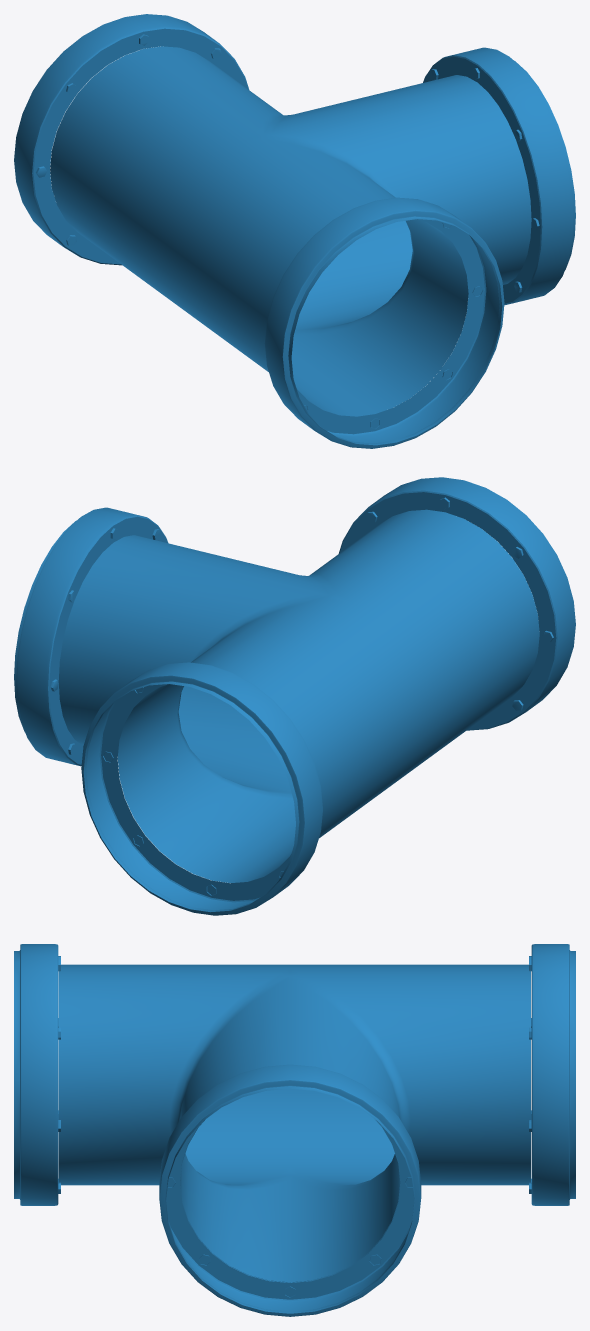
The model's file is Sub_TPipe_Pix_LOD1.fbx.
3 renders of one model, top to bottom at view 1: azimuth 30°, elevation 25°; view 2: azimuth 150°, elevation 25°; view 3: azimuth 270°, elevation 25°, orthographic. The views are drawn at different scales.
Parts seen in each view (by area): view 1: Sub_TPipe_Pix_LOD1; view 2: Sub_TPipe_Pix_LOD1; view 3: Sub_TPipe_Pix_LOD1.
Boxes of the visible parts, x1=… form: Sub_TPipe_Pix_LOD1: x1=14, y1=14, x2=575, y2=448; Sub_TPipe_Pix_LOD1: x1=14, y1=477, x2=575, y2=915; Sub_TPipe_Pix_LOD1: x1=14, y1=944, x2=575, y2=1316.
Size of the model in its own units: 82.94 by 50.56 by 108.
